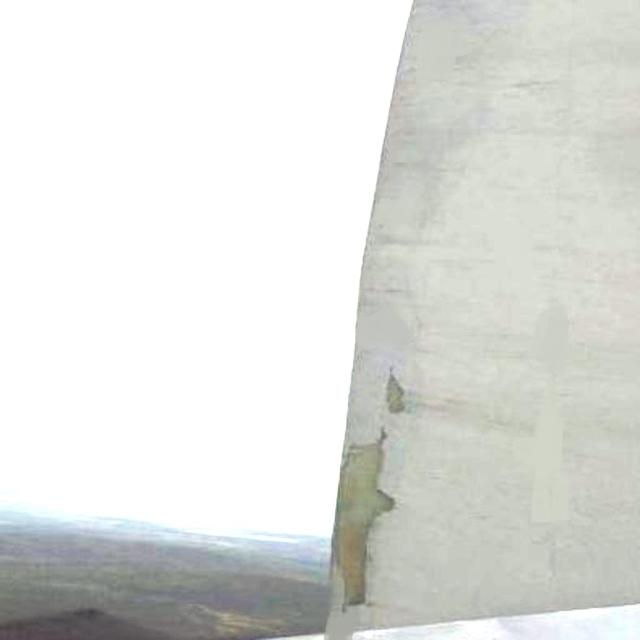surface_peeling: (330, 437, 389, 610), (380, 371, 410, 417)
